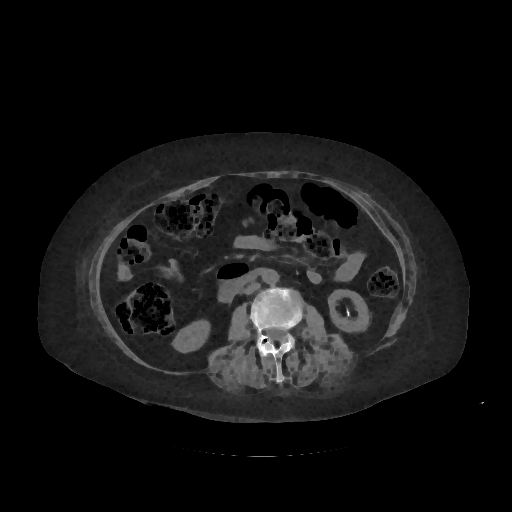Lesion: (341, 301, 356, 321)
